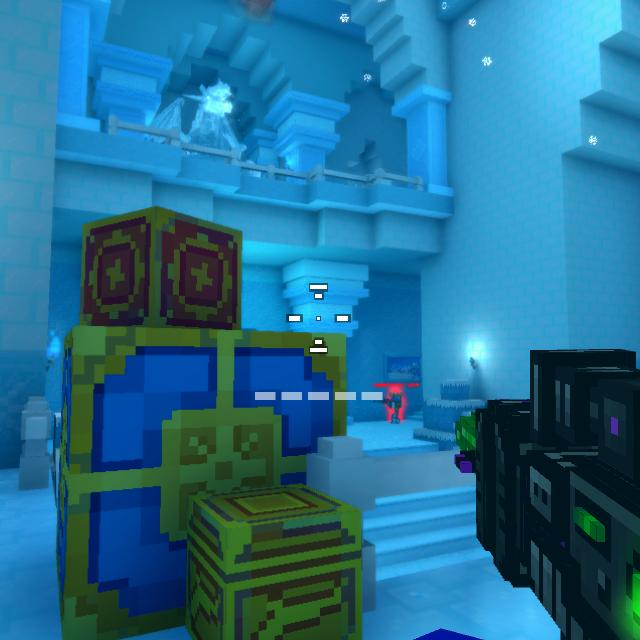Enemy: (387, 392, 403, 424)
